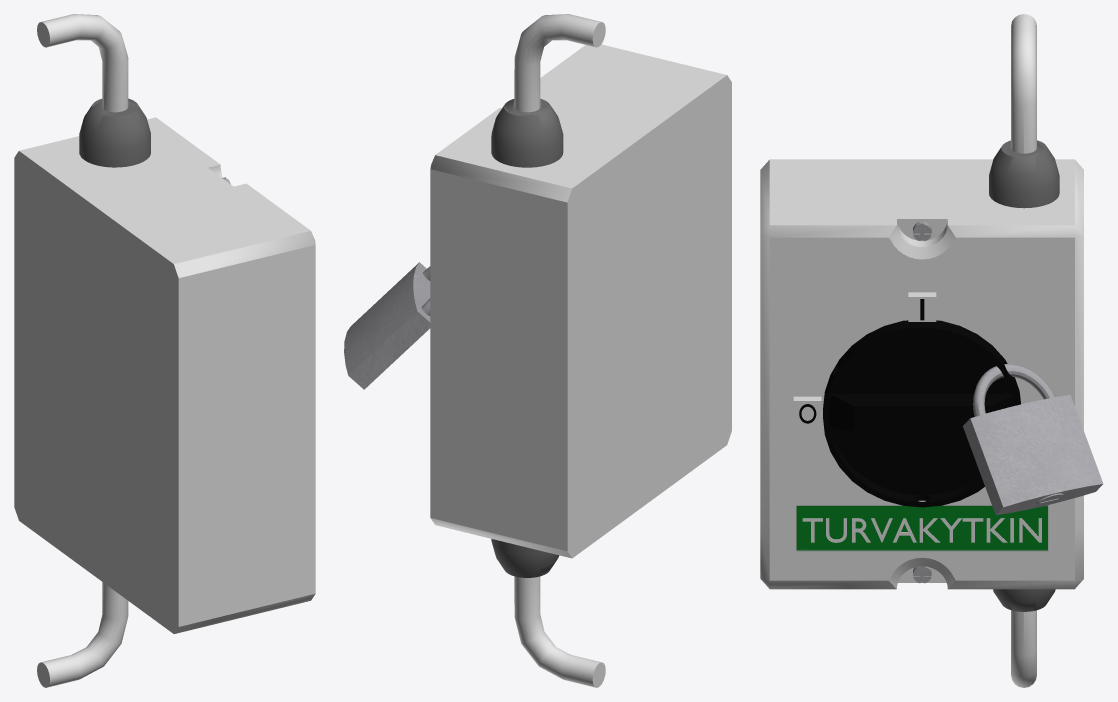
File: Elec_turvakytkin_switch_turnable.fbx
The picture shows the model from 3 angles, left to right: view 1: azimuth 30°, elevation 25°; view 2: azimuth 150°, elevation 25°; view 3: azimuth 270°, elevation 25°; orthographic projection.
Parts seen in each view (by area): view 1: base; view 2: base, lock; view 3: base, switch, lock.
Part boxes in pixels (box(x1,y1,x2,y2)): base: box(14, 14, 315, 687); base: box(430, 14, 731, 687); lock: box(344, 262, 430, 389); base: box(760, 14, 1083, 687); switch: box(828, 332, 1014, 495); lock: box(963, 364, 1103, 515).
Size of the model in its own units: 182 by 446 by 212.
